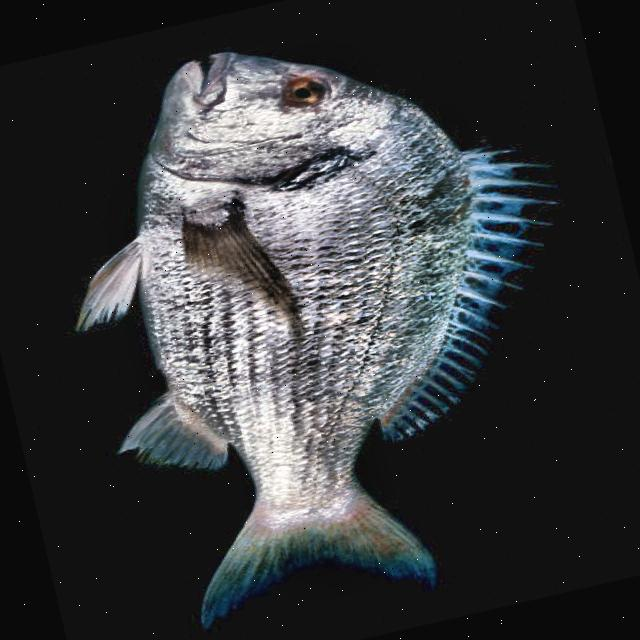fish: (19, 0, 639, 640)
